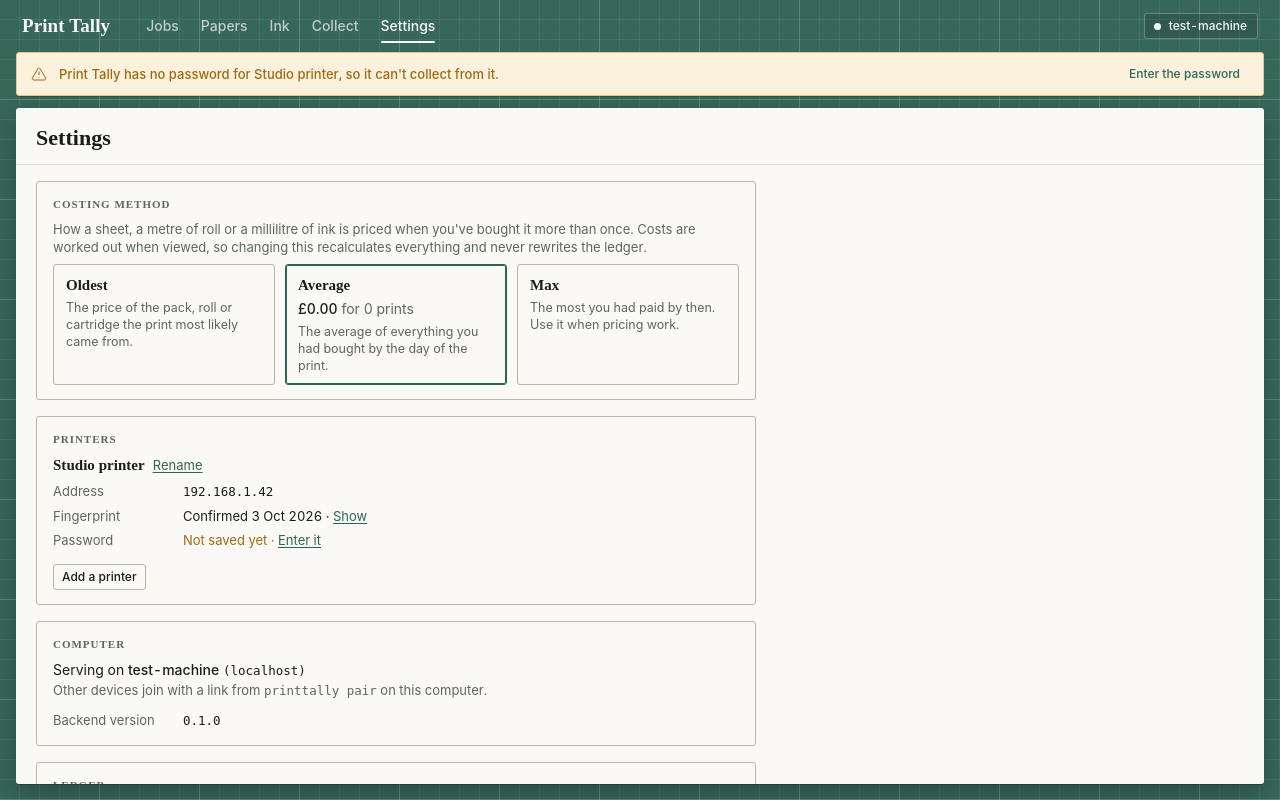
it: printer password rejection keeps the editor open and never reports a saved credential
This screenshot has width=1280, height=800.
Expected: the text "Not saved yet · Enter it" is shown, [183,532,321,548]
Click the button "Enter it" at (300, 540), box [278,530,321,550]
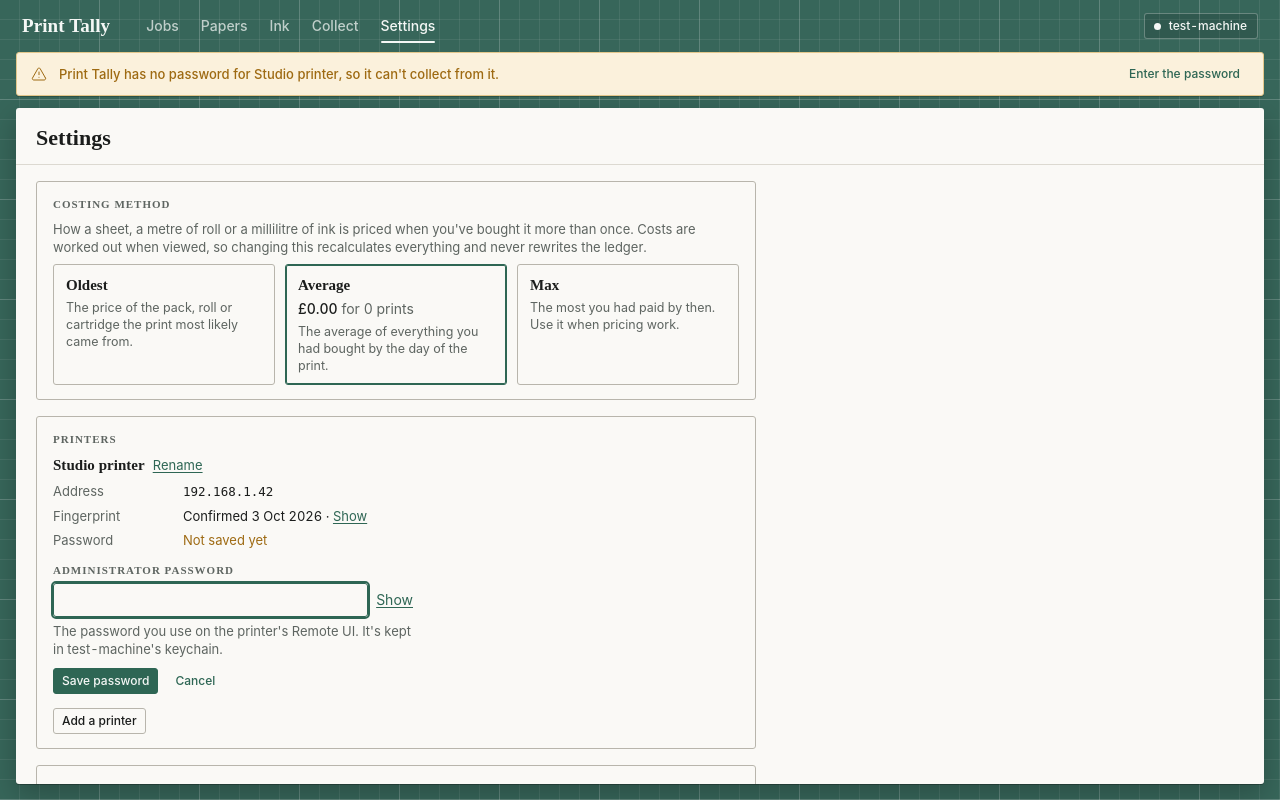
Type "new-secret" into the password field labelled "Administrator password" at (211, 600), box [53,583,368,617]
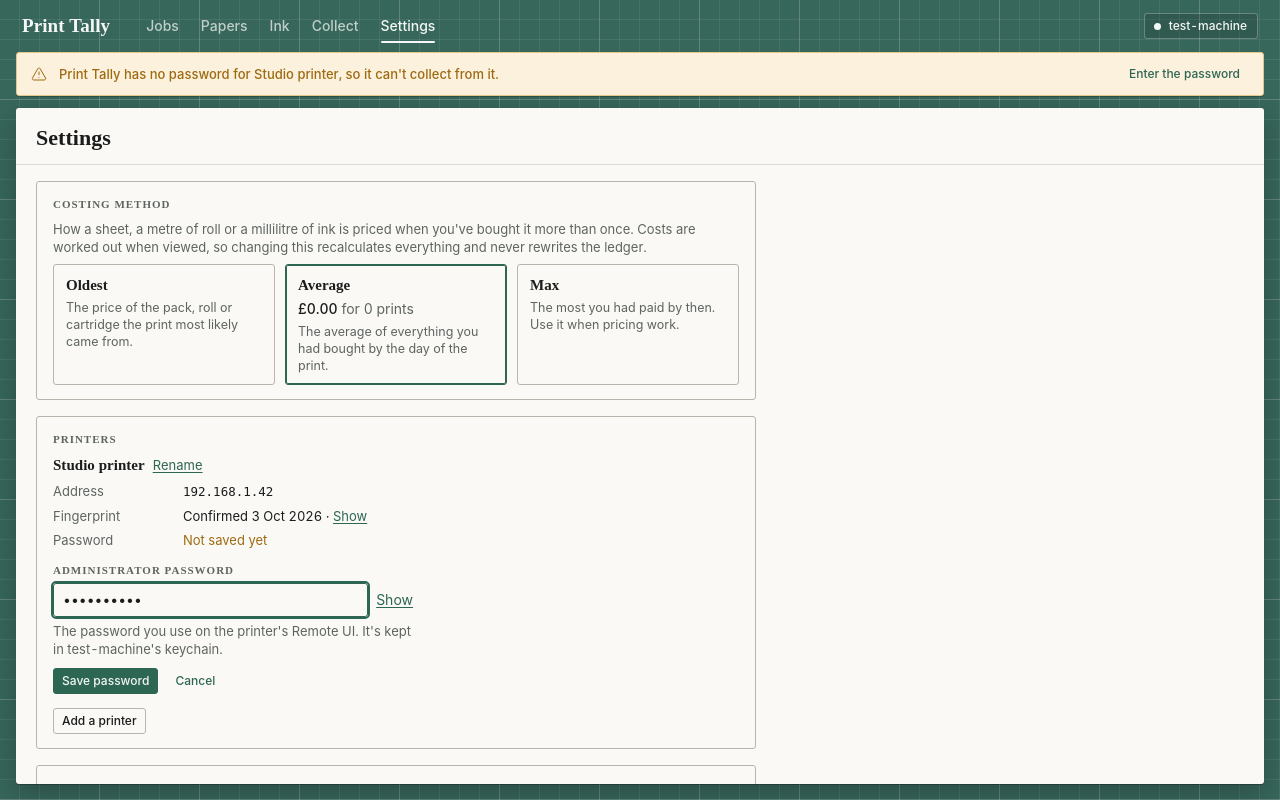
Click the button "Show" below "Administrator password" at (395, 600), box [376,590,413,610]
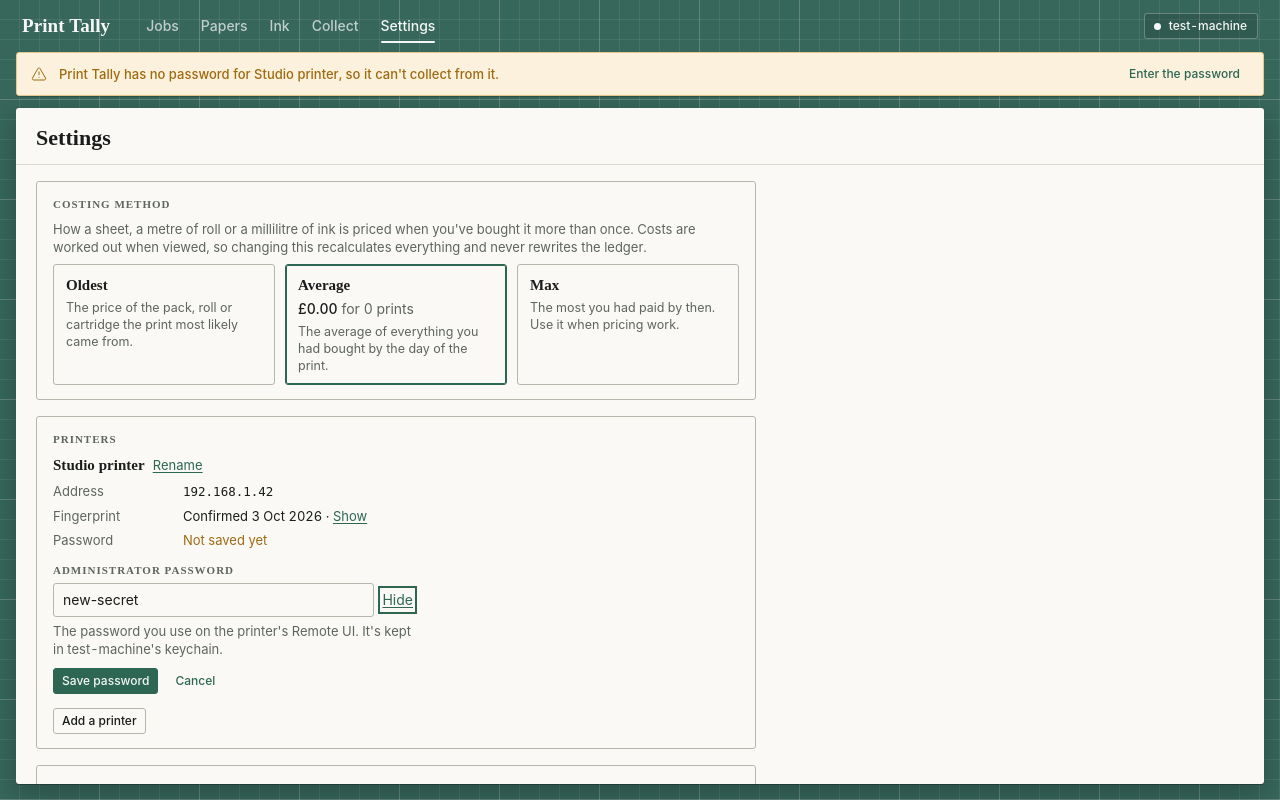
Click the button "Save password" at (106, 681), box [53,668,158,694]
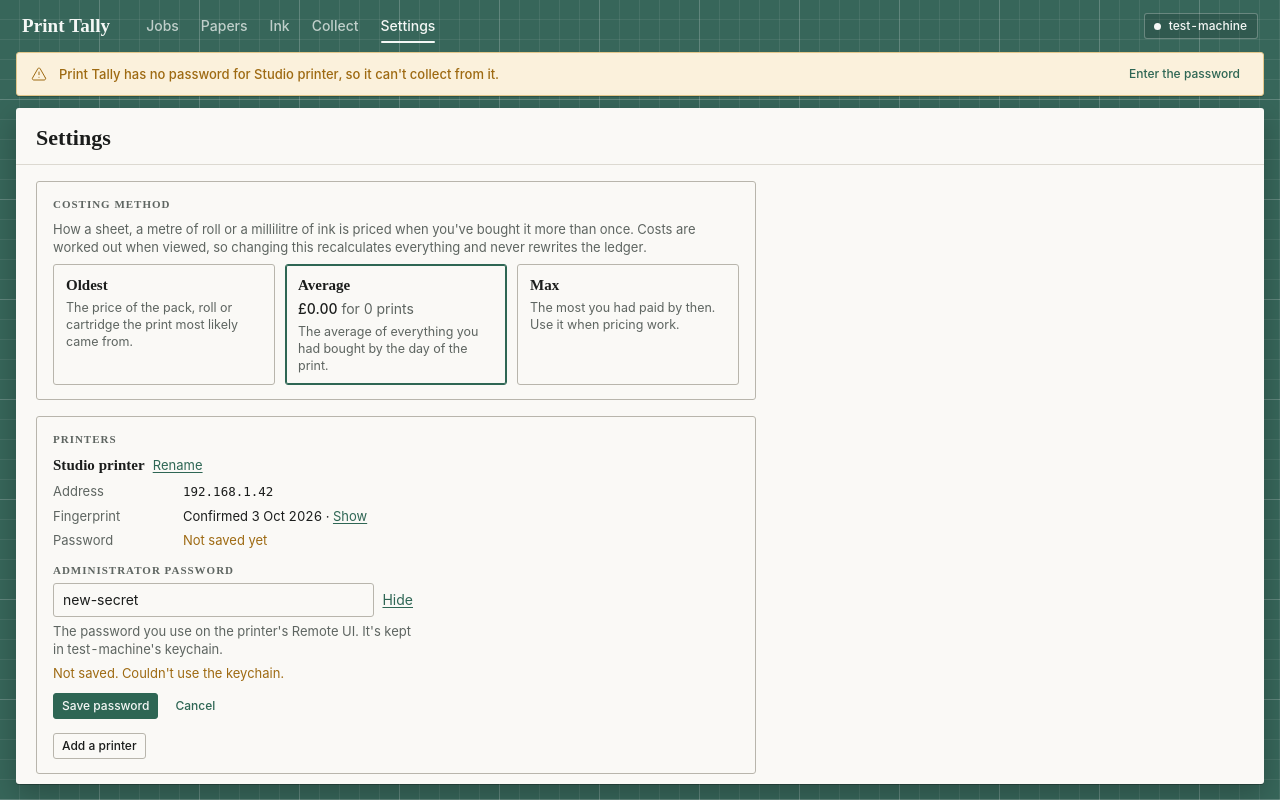
Expected: the text "Password saved" is not shown
Expected: the message "Not saved. Couldn't use the keychain." is shown, [53,665,284,681]
Click the button "Save password" at (106, 706), box [53,693,158,719]
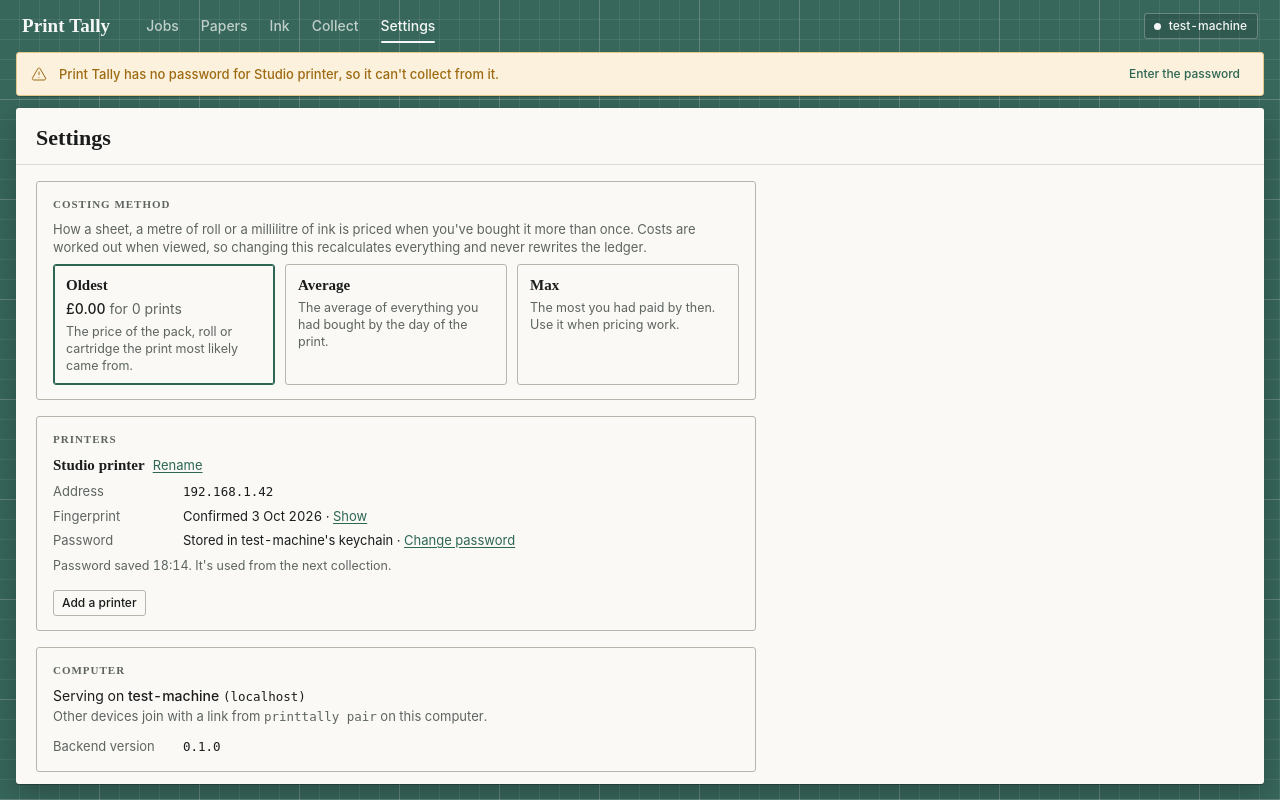
Expected: the text "Password saved 18:14. It's used from the next collection." is shown, [53,558,391,573]
